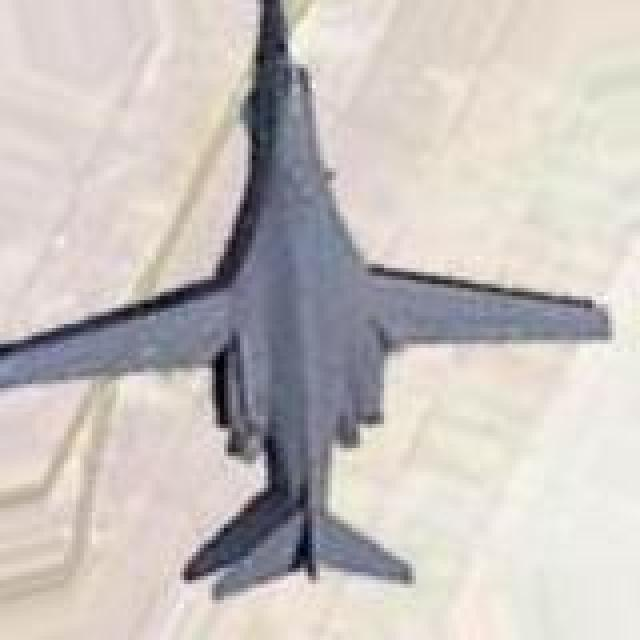B-1_TopDown: (0, 0, 612, 596)
